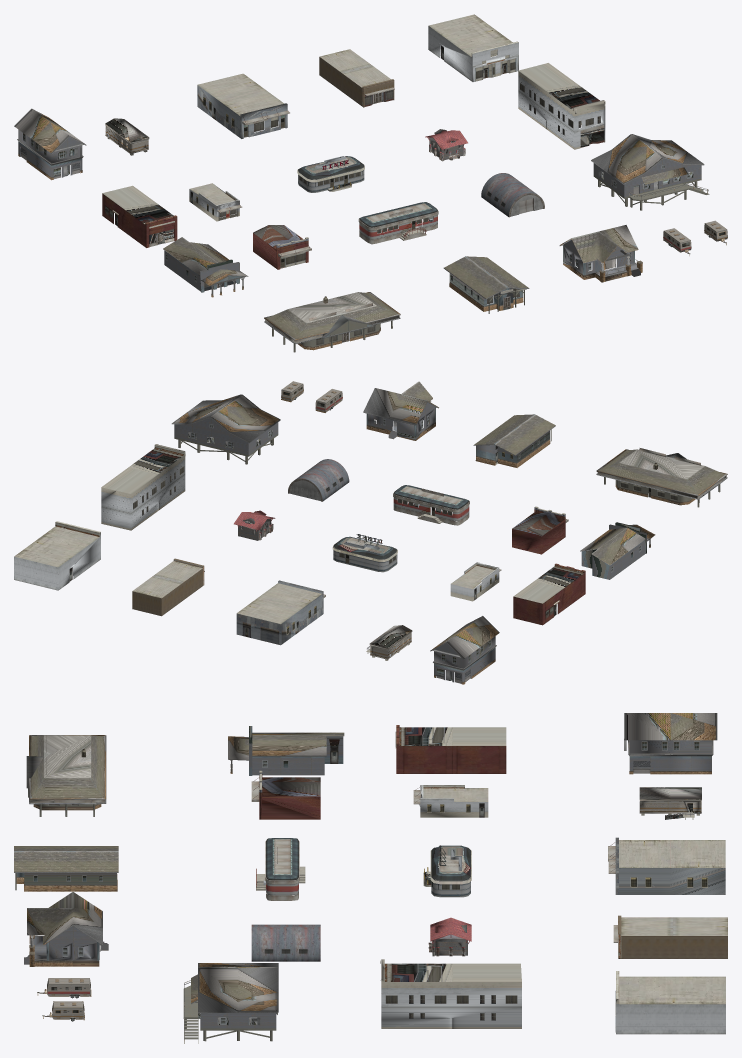
File: rural.glb
The picture shows the model from 3 angles, top to bottom: view 1: azimuth 30°, elevation 25°; view 2: azimuth 150°, elevation 25°; view 3: azimuth 270°, elevation 25°; orthographic projection. The views are drawn at different scales.
Visible parts, largest first — view 1: Rural_WoodenBuilding_1, Rural_WoodenBuilding_4_Rural_Housetrim_1_0, Rural_StoreSmall_4_Rural_Midcity_Walls_FLR_1_0, Rural_StoreSmall_6_Rural_Facade_FLR_2_0, Rural_StoreSmall_8_Rural_Facade_FLR_2_0, Rural_StoreSmall_4_Rural_Facade_FLR_2_0, Rural_WoodenBuilding_2_Rural_Housetrim_1_0, Rural_WoodenBuilding_3_Rural_Housetrim_1_0, Rural_WoodenBuilding_5_Rural_Housetrim_1_0, Rural_Diner_1_Rural_Facade_FLR_2_0, Rural_StoreSmall_8_Rural_Midcity_Walls_FLR_1_0, Rural_StoreSmall_2_Material #0_0 (+20 smaller); view 2: Rural_WoodenBuilding_1, Rural_WoodenBuilding_4_Rural_Housetrim_1_0, Rural_StoreSmall_4_Rural_Midcity_Walls_FLR_1_0, Rural_WoodenBuilding_2_Rural_Housetrim_1_0, Rural_WoodenBuilding_3_Rural_Housetrim_1_0, Rural_StoreSmall_8_Rural_Facade_FLR_2_0, Rural_WoodenBuilding_5_Rural_Housetrim_1_0, Rural_StoreSmall_8_Rural_Midcity_Walls_FLR_1_0, Rural_StoreSmall_6_Rural_Midcity_Facade_FLR_2_0, Rural_StoreSmall_6_Rural_Facade_FLR_2_0, Rural_StoreSmall_4_Rural_Facade_FLR_2_0, Rural_StoreSmall_1_Rural_Brownstone_Facade_Flr_6_0 (+19 smaller); view 3: Rural_WoodenBuilding_1, Rural_StoreSmall_4_Rural_Midcity_Walls_FLR_1_0, Rural_WoodenBuilding_4_Rural_Housetrim_1_0, Rural_WoodenBuilding_5_Rural_Housetrim_1_0, Rural_WoodenBuilding_3_Rural_Housetrim_1_0, Rural_StoreSmall_6_Rural_Facade_FLR_2_0, Rural_StoreSmall_8_Rural_Midcity_Walls_FLR_1_0, Rural_StoreSmall_4_Rural_Facade_FLR_2_0, Rural_WoodenBuilding_2_Rural_Housetrim_1_0, Rural_StoreSmall_8_Rural_Facade_FLR_2_0, Rural_StoreSmall_5_Rural_Brownstone_Facade_Flr_6_0, Rural_StoreSmall_6_Rural_Midcity_Facade_FLR_2_0 (+18 smaller).
Part boxes in pixels (<box>): Rural_WoodenBuilding_1: <box>591,134,709,210</box>; Rural_WoodenBuilding_4_Rural_Housetrim_1_0: <box>264,292,400,350</box>; Rural_StoreSmall_4_Rural_Midcity_Walls_FLR_1_0: <box>518,71,605,149</box>; Rural_StoreSmall_6_Rural_Facade_FLR_2_0: <box>197,73,289,137</box>; Rural_StoreSmall_8_Rural_Facade_FLR_2_0: <box>429,14,518,81</box>; Rural_StoreSmall_4_Rural_Facade_FLR_2_0: <box>518,63,605,147</box>; Rural_WoodenBuilding_2_Rural_Housetrim_1_0: <box>559,225,642,282</box>; Rural_WoodenBuilding_3_Rural_Housetrim_1_0: <box>443,256,529,311</box>; Rural_WoodenBuilding_5_Rural_Housetrim_1_0: <box>14,108,86,180</box>; Rural_Diner_1_Rural_Facade_FLR_2_0: <box>358,202,438,244</box>; Rural_StoreSmall_8_Rural_Midcity_Walls_FLR_1_0: <box>428,26,518,81</box>; Rural_StoreSmall_2_Material #0_0: <box>163,237,248,297</box>; Rural_WoodenBuilding_1: <box>171,394,280,464</box>; Rural_WoodenBuilding_4_Rural_Housetrim_1_0: <box>596,449,727,505</box>; Rural_StoreSmall_4_Rural_Midcity_Walls_FLR_1_0: <box>101,444,185,530</box>; Rural_WoodenBuilding_2_Rural_Housetrim_1_0: <box>363,381,438,440</box>; Rural_WoodenBuilding_3_Rural_Housetrim_1_0: <box>473,414,555,467</box>; Rural_StoreSmall_8_Rural_Facade_FLR_2_0: <box>14,521,100,581</box>; Rural_WoodenBuilding_5_Rural_Housetrim_1_0: <box>430,616,499,684</box>; Rural_StoreSmall_8_Rural_Midcity_Walls_FLR_1_0: <box>14,532,100,590</box>; Rural_StoreSmall_6_Rural_Midcity_Facade_FLR_2_0: <box>236,580,323,645</box>; Rural_StoreSmall_6_Rural_Facade_FLR_2_0: <box>237,583,325,634</box>; Rural_StoreSmall_4_Rural_Facade_FLR_2_0: <box>101,444,185,515</box>; Rural_StoreSmall_1_Rural_Brownstone_Facade_Flr_6_0: <box>512,507,565,554</box>; Rural_WoodenBuilding_1: <box>183,963,278,1043</box>; Rural_StoreSmall_4_Rural_Midcity_Walls_FLR_1_0: <box>381,959,521,1028</box>; Rural_WoodenBuilding_4_Rural_Housetrim_1_0: <box>26,735,106,810</box>; Rural_WoodenBuilding_5_Rural_Housetrim_1_0: <box>624,713,717,774</box>; Rural_WoodenBuilding_3_Rural_Housetrim_1_0: <box>14,846,118,891</box>; Rural_StoreSmall_6_Rural_Facade_FLR_2_0: <box>608,840,725,887</box>; Rural_StoreSmall_8_Rural_Midcity_Walls_FLR_1_0: <box>616,999,725,1034</box>; Rural_StoreSmall_4_Rural_Facade_FLR_2_0: <box>380,960,521,1020</box>; Rural_WoodenBuilding_2_Rural_Housetrim_1_0: <box>27,892,102,966</box>; Rural_StoreSmall_8_Rural_Facade_FLR_2_0: <box>615,971,725,1032</box>; Rural_StoreSmall_5_Rural_Brownstone_Facade_Flr_6_0: <box>396,725,506,773</box>; Rural_StoreSmall_6_Rural_Midcity_Facade_FLR_2_0: <box>615,837,725,894</box>.
Bounding box in the file's own units: 126 × 10.73 × 130.
9 materials, 9 textured.
